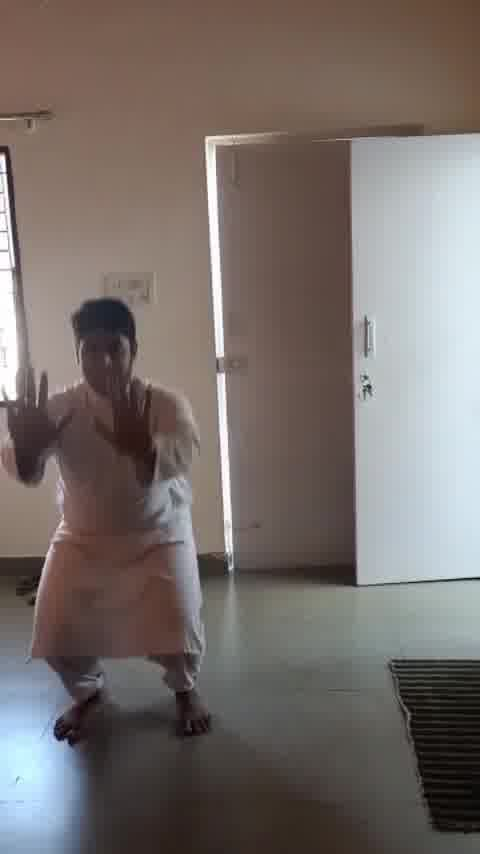duck: (5, 290, 234, 752)
